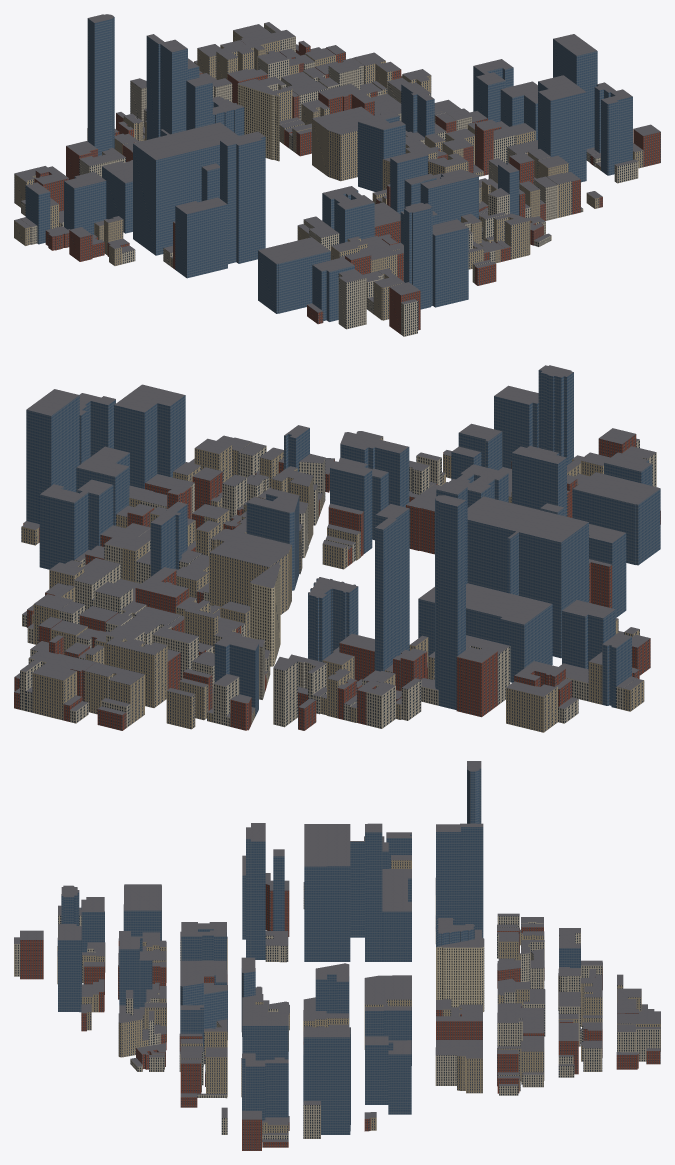
Rendered from city.glb.
3 renders of one model, top to bottom at view 1: azimuth 30°, elevation 25°; view 2: azimuth 150°, elevation 25°; view 3: azimuth 270°, elevation 25°, orthographic. The views are drawn at different scales.
Parts seen in each view (by area): view 1: city_facade_modern, city_facade_beige, city_facade_brick, city_facade_limestone, bin1016278, bin1087263; view 2: city_facade_modern, city_facade_beige, city_facade_limestone, city_facade_brick, bin1016278, bin1087263, bin1016896, bin1016186, bin1016195, bin1016884, bin1016239; view 3: city_facade_modern, city_facade_beige, city_facade_limestone, city_facade_brick, bin1016278, bin1016896, bin1016884, bin1016227, bin1016239.
Part boxes in pixels (left/top/right/bottom): city_facade_modern: left=25, top=14, right=632, bottom=321; city_facade_beige: left=14, top=24, right=643, bottom=320; city_facade_brick: left=34, top=36, right=660, bottom=334; city_facade_limestone: left=20, top=22, right=638, bottom=336; bin1016278: left=237, top=79, right=279, bottom=161; bin1087263: left=374, top=202, right=400, bottom=243; city_facade_modern: left=26, top=365, right=660, bottom=716; city_facade_beige: left=21, top=431, right=644, bottom=732; city_facade_limestone: left=20, top=438, right=656, bottom=728; city_facade_brick: left=14, top=428, right=660, bottom=730; bin1016278: left=250, top=561, right=280, bottom=666; bin1087263: left=406, top=484, right=440, bottom=554; bin1016896: left=458, top=423, right=502, bottom=470; bin1016186: left=166, top=688, right=195, bottom=729; bin1016195: left=179, top=678, right=208, bottom=720; bin1016884: left=451, top=446, right=481, bottom=479; bin1016239: left=214, top=629, right=264, bottom=699; city_facade_modern: left=58, top=761, right=580, bottom=1134; city_facade_beige: left=57, top=855, right=660, bottom=1141; city_facade_limestone: left=14, top=878, right=660, bottom=1139; city_facade_brick: left=20, top=873, right=660, bottom=1150; bin1016278: left=436, top=938, right=484, bottom=1011; bin1016896: left=119, top=936, right=142, bottom=1008; bin1016884: left=139, top=951, right=152, bottom=1006; bin1016227: left=558, top=967, right=581, bottom=1010; bin1016239: left=530, top=949, right=544, bottom=988.
Bounding box in the file's own units: 829 × 237 × 827.
7 materials, 7 textured.
